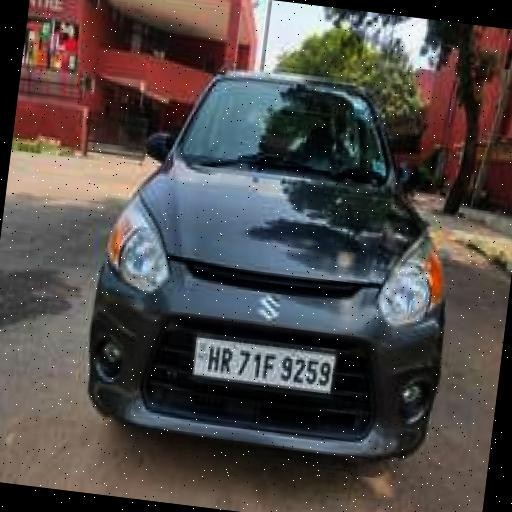license_plate`: (188, 334, 334, 392)
